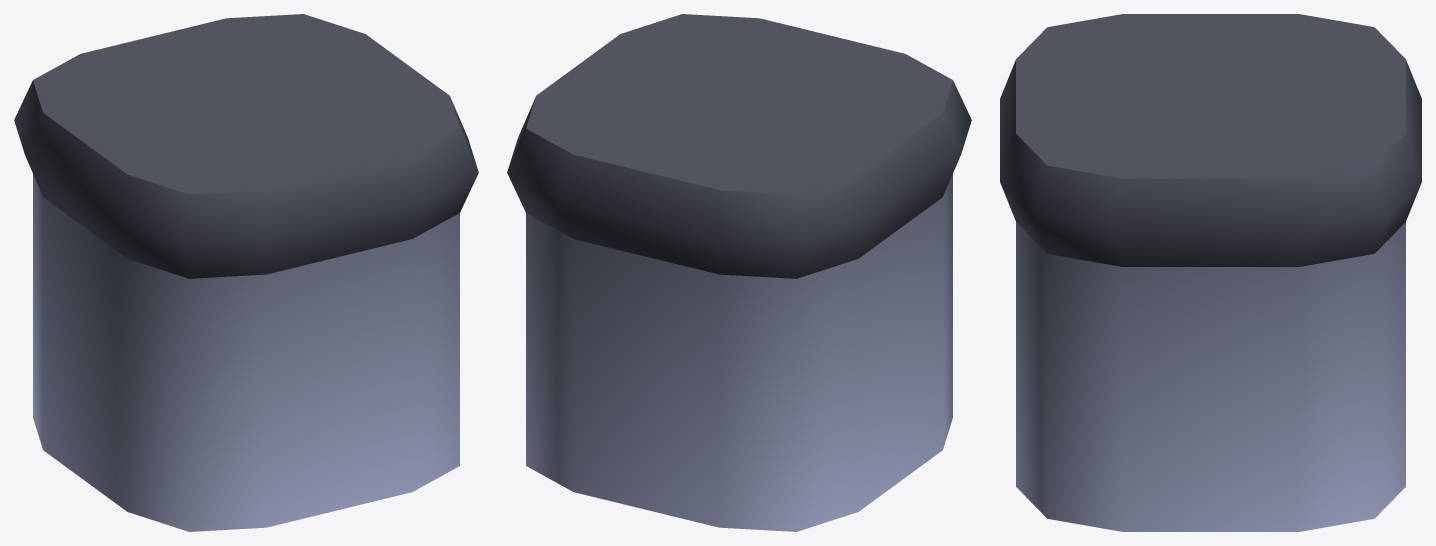
Rendered from block-snow.glb.
3 views of the same model, side by side, from view 1: azimuth 30°, elevation 25°; view 2: azimuth 150°, elevation 25°; view 3: azimuth 270°, elevation 25° (orthographic). The views are drawn at different scales.
Parts seen in each view (by area): view 1: block-snow; view 2: block-snow; view 3: block-snow.
Boxes of the visible parts, left/top/right/bottom form: block-snow: left=14, top=14, right=478, bottom=531; block-snow: left=507, top=14, right=971, bottom=531; block-snow: left=1000, top=14, right=1421, bottom=531.
Size of the model in its own units: 1.08 by 1 by 1.08.
